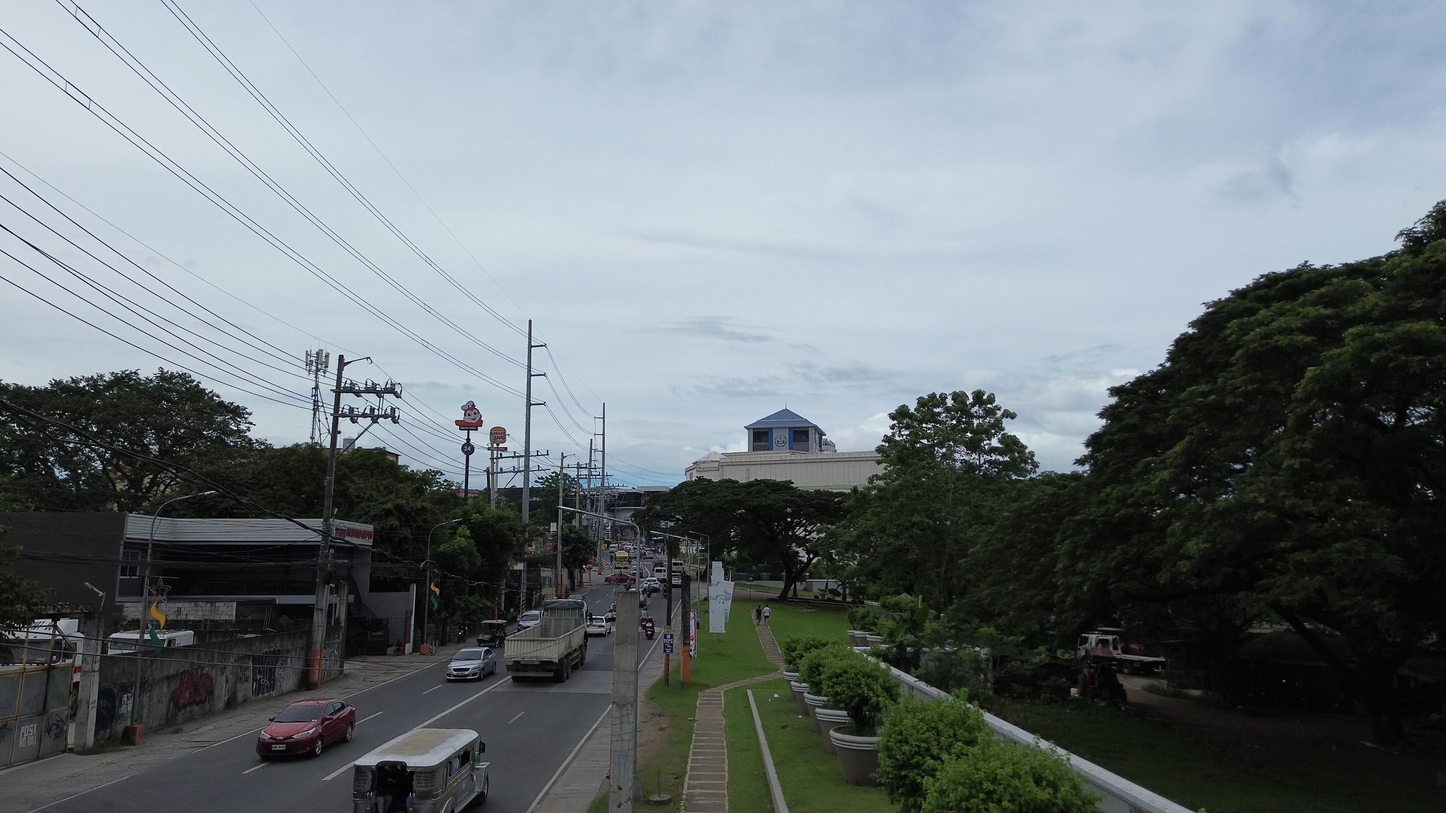car: (641, 578, 661, 589)
motorcycle: (642, 620, 655, 639)
truck: (503, 599, 587, 681)
vehicle: (353, 728, 489, 813), (256, 699, 356, 758), (1077, 629, 1165, 674), (445, 647, 497, 681), (107, 631, 154, 653), (477, 620, 506, 647), (587, 615, 613, 636), (517, 609, 541, 631), (605, 571, 636, 584), (614, 550, 631, 568), (641, 620, 655, 639), (641, 577, 661, 590), (653, 564, 667, 581), (670, 570, 682, 587)
